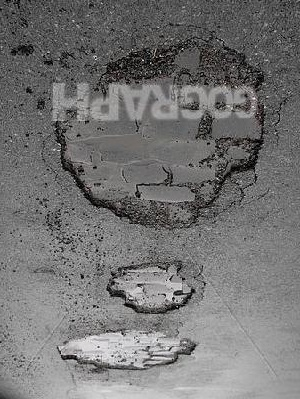pothole: (52, 37, 272, 236), (56, 334, 200, 371), (103, 261, 196, 317)
